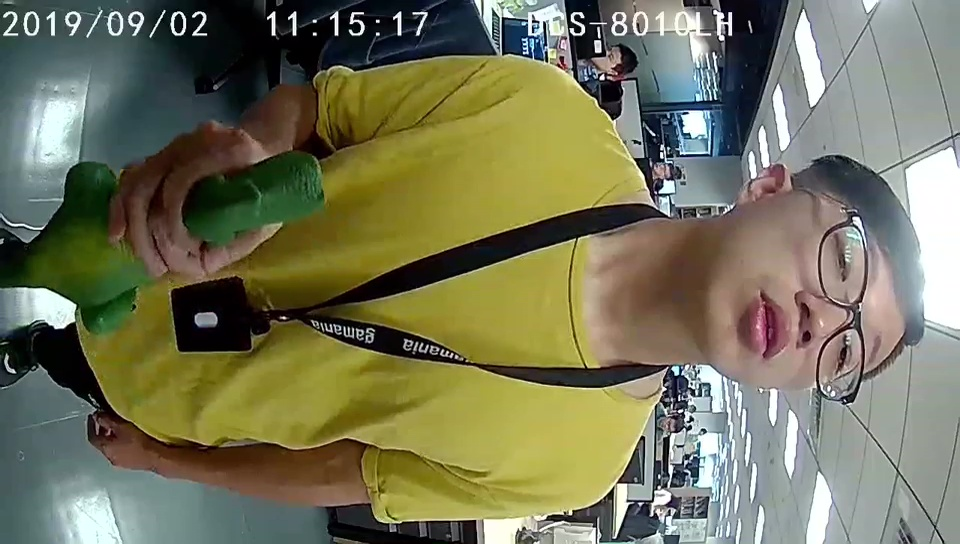rex: (60, 152, 326, 329)
